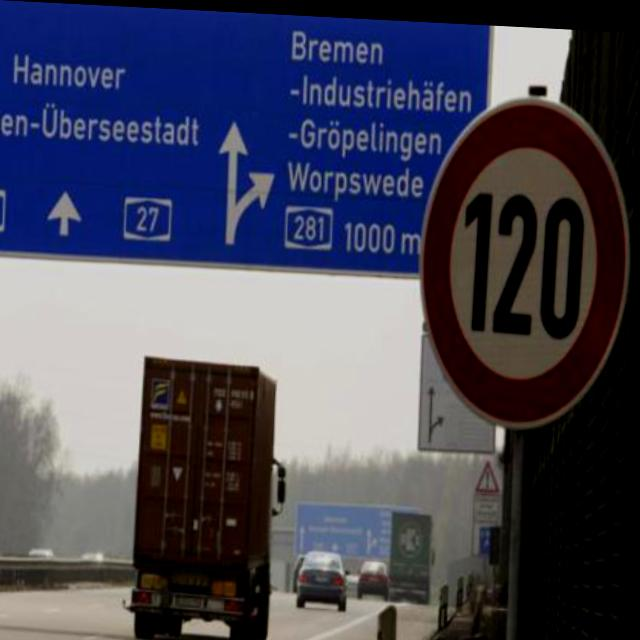limit120: (407, 71, 638, 437)
